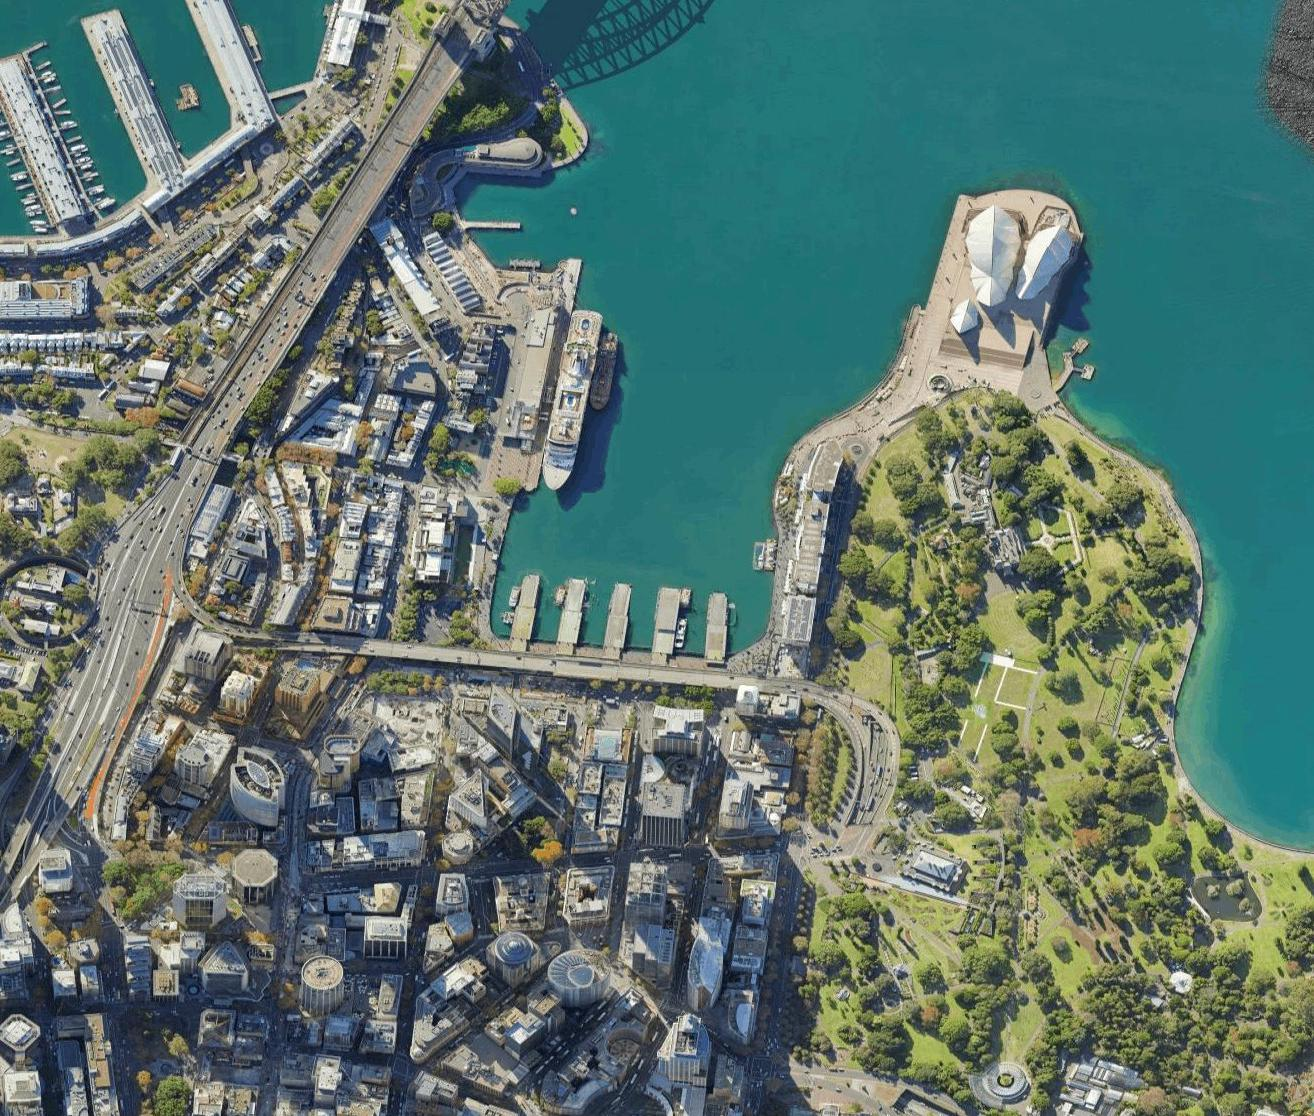harbor: (492, 215, 814, 669)
motorway: (99, 302, 306, 657), (282, 1, 497, 303)
